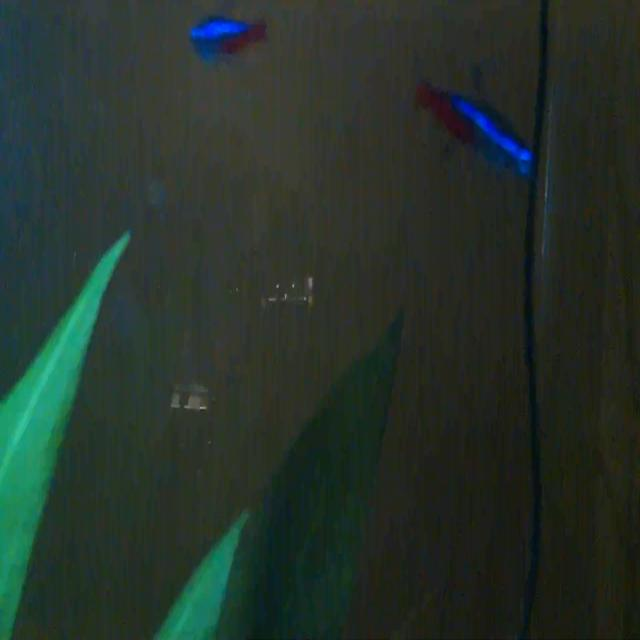fish: (411, 58, 536, 186)
